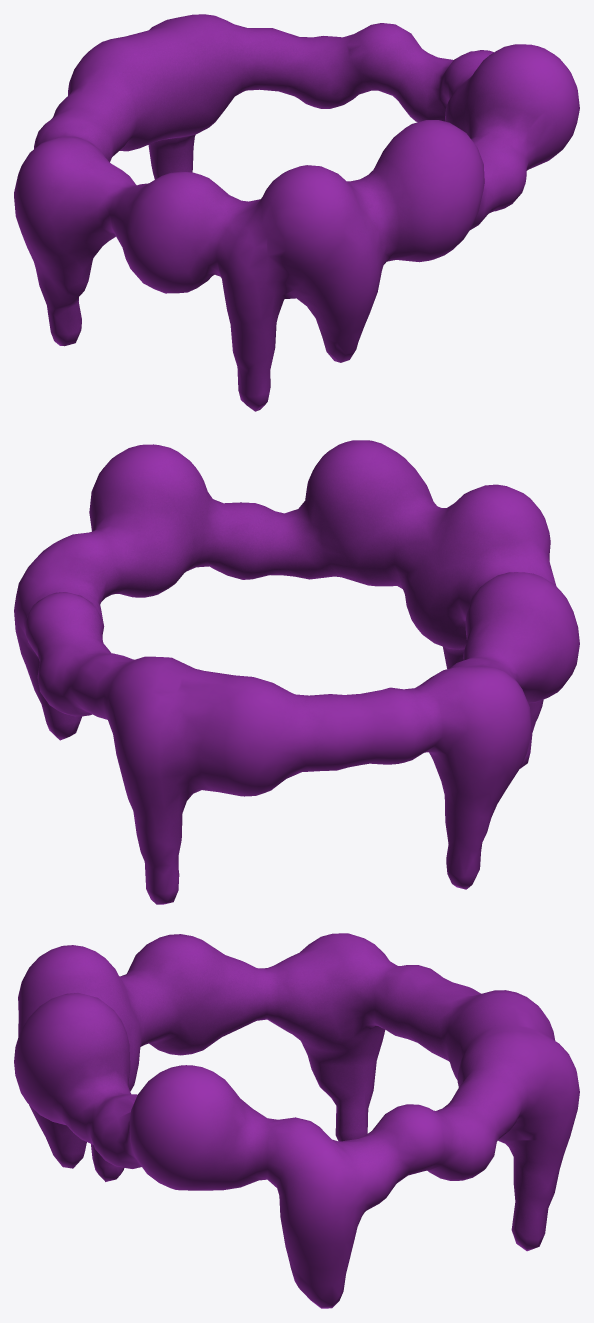
Rendered from SK_GumStuck.fbx.
3 renders of one model, top to bottom at view 1: azimuth 30°, elevation 25°; view 2: azimuth 150°, elevation 25°; view 3: azimuth 270°, elevation 25°, orthographic. The views are drawn at different scales.
Parts seen in each view (by area): view 1: SK_GumStuck; view 2: SK_GumStuck; view 3: SK_GumStuck.
Boxes of the visible parts, <box> form: SK_GumStuck: <box>14,14,579,411</box>; SK_GumStuck: <box>14,440,579,904</box>; SK_GumStuck: <box>14,933,579,1308</box>.
Bounding box in the file's own units: 95.14 × 49.71 × 94.19.
